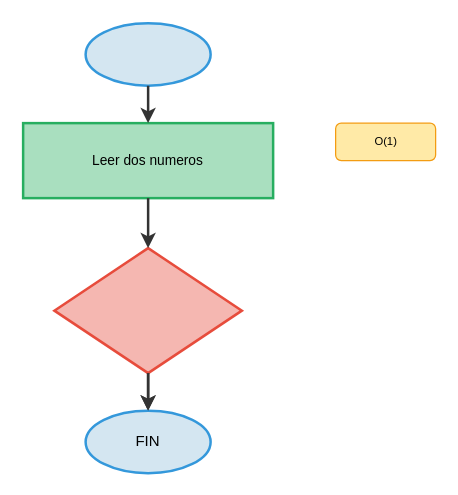
Image size: 458x495. Some labels were removed from this diagram. The box of each missing label's shape, as (x1, y1, x2, y2) in pixels:
INICIO: (84, 21, 211, 86)
¿Cuál mayor?: (52, 246, 242, 374)
